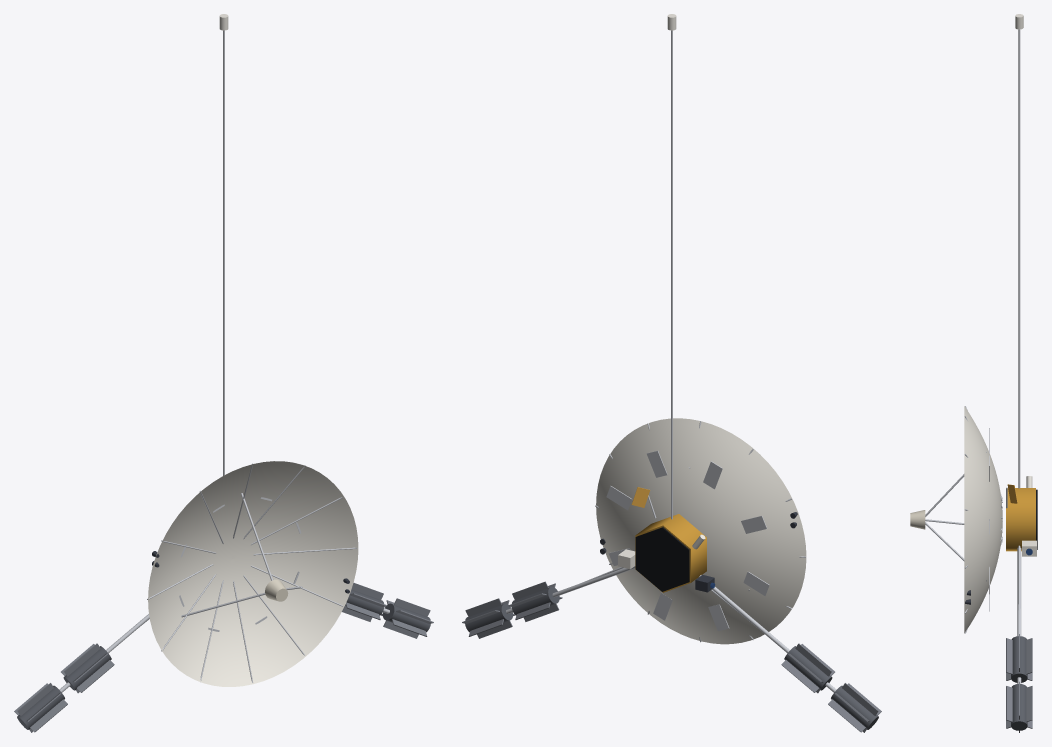
File: pioneer10.glb
The picture shows the model from 3 angles, left to right: view 1: azimuth 30°, elevation 25°; view 2: azimuth 150°, elevation 25°; view 3: azimuth 270°, elevation 25°; orthographic projection. The views are drawn at different scales.
Size of the model in its own units: 5.38 by 8.34 by 1.53.
